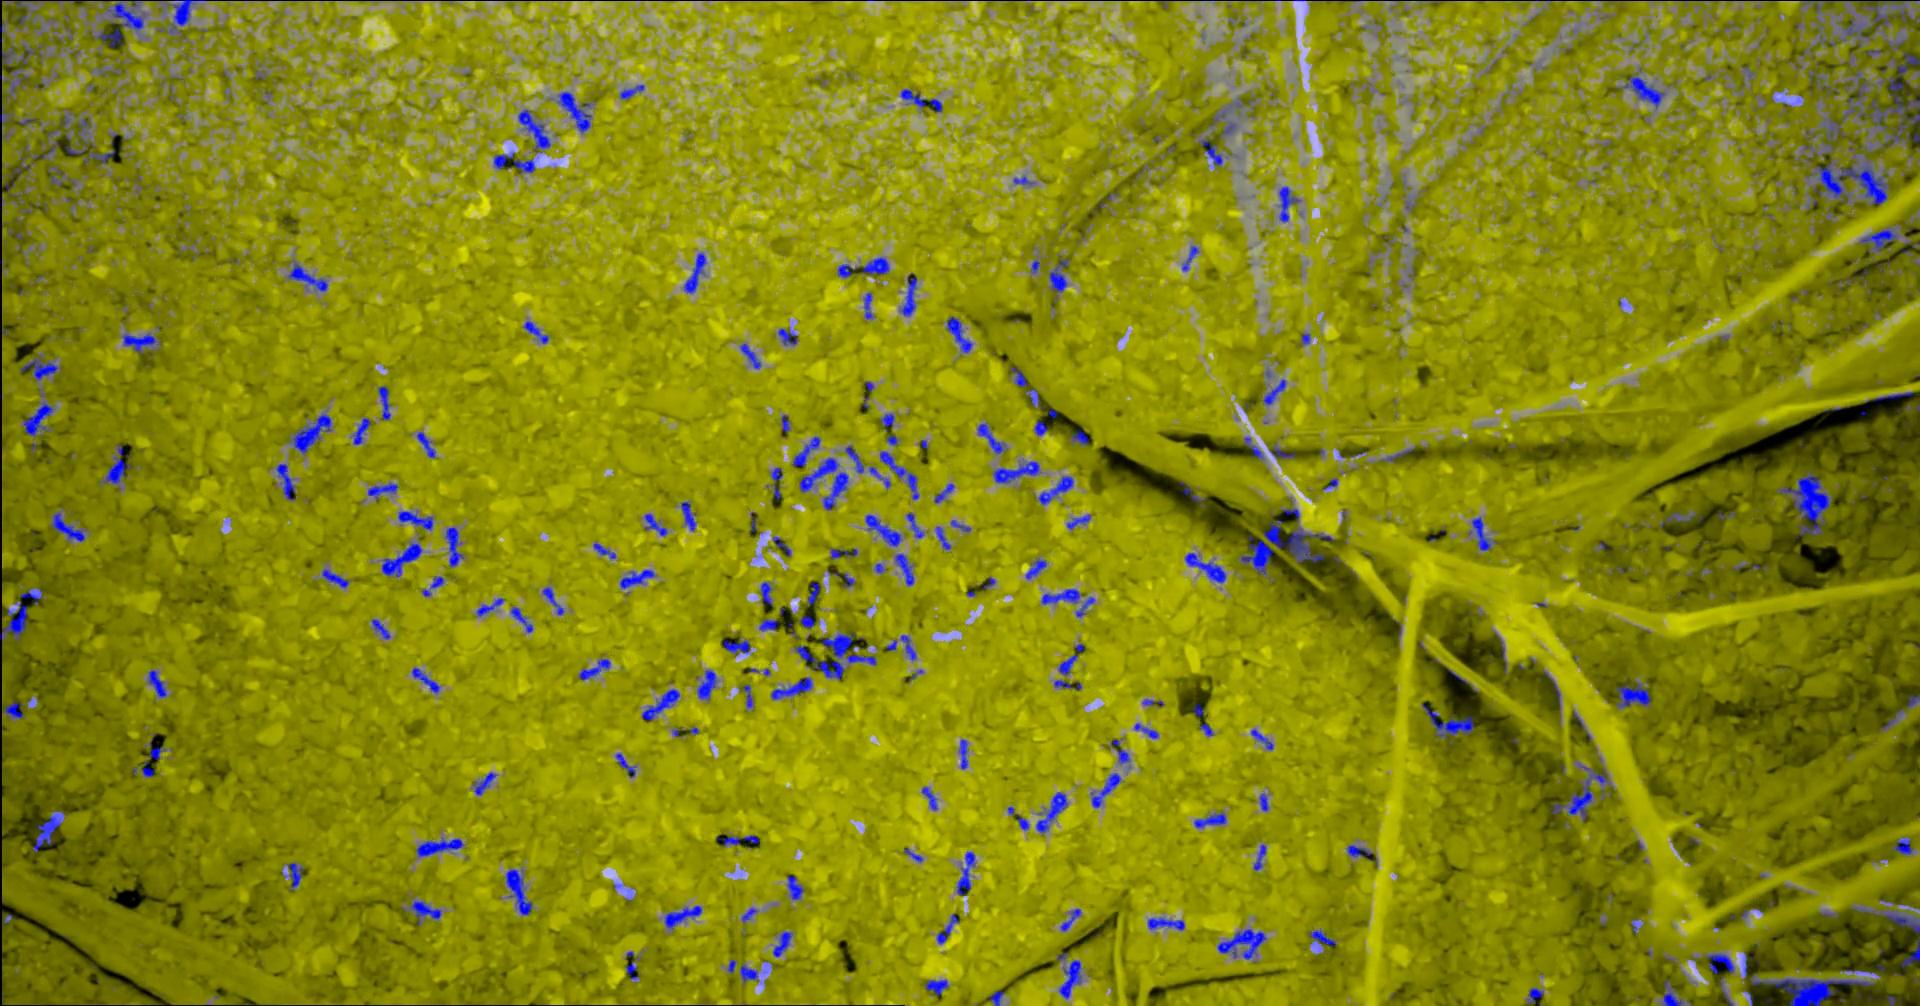ant: (1851, 907, 1919, 967), (1549, 763, 1609, 821), (799, 457, 848, 509), (97, 0, 143, 47), (1421, 702, 1473, 743), (879, 451, 918, 499), (288, 413, 331, 453), (1851, 0, 1909, 30), (1217, 929, 1266, 959), (517, 109, 550, 152), (1622, 75, 1663, 108), (557, 91, 590, 132), (381, 542, 422, 575), (1035, 791, 1067, 833), (32, 810, 63, 852), (287, 260, 328, 291), (1183, 553, 1225, 582), (505, 869, 532, 915), (9, 46, 41, 84), (863, 514, 902, 546), (641, 688, 679, 720), (169, 0, 204, 32), (23, 401, 55, 436), (50, 511, 85, 541), (1010, 366, 1037, 404), (0, 600, 25, 641), (1090, 772, 1120, 807), (899, 88, 942, 112), (992, 461, 1040, 483), (1037, 475, 1073, 504), (104, 445, 130, 484), (19, 354, 57, 380), (1859, 227, 1897, 251), (415, 837, 463, 856), (1468, 516, 1495, 550), (1615, 681, 1650, 708), (683, 251, 705, 293), (770, 677, 811, 699), (946, 316, 971, 352), (1058, 959, 1081, 998), (664, 904, 701, 929), (977, 423, 1004, 453), (792, 436, 820, 466), (1058, 643, 1084, 674), (122, 333, 161, 353), (956, 851, 974, 895), (1277, 185, 1299, 221), (444, 527, 463, 567), (411, 667, 439, 694), (1662, 979, 1691, 1005), (276, 464, 295, 500), (1048, 258, 1068, 292), (410, 901, 441, 923), (578, 658, 610, 680), (1178, 481, 1205, 507), (618, 569, 654, 588), (1197, 137, 1222, 165), (1040, 588, 1081, 605), (1823, 117, 1844, 149), (10, 0, 38, 23), (900, 274, 916, 316), (936, 913, 957, 942), (1705, 953, 1735, 974), (1658, 511, 1697, 527), (696, 669, 716, 700), (1261, 379, 1285, 404), (522, 320, 549, 343), (397, 511, 432, 528), (895, 553, 913, 586), (367, 481, 397, 500), (510, 606, 532, 633), (321, 568, 349, 588), (542, 586, 563, 614), (857, 257, 889, 274), (475, 597, 504, 616), (1192, 810, 1225, 827), (283, 862, 303, 889), (350, 417, 370, 445), (844, 445, 863, 473), (147, 669, 166, 697), (8, 156, 30, 179), (472, 772, 495, 795), (1839, 964, 1884, 976), (1845, 15, 1869, 37), (643, 513, 667, 535), (1881, 708, 1905, 729), (739, 343, 759, 368), (1110, 738, 1130, 763), (615, 752, 635, 777), (772, 931, 792, 956), (417, 431, 436, 457), (723, 636, 750, 654), (1250, 728, 1272, 749), (1864, 391, 1912, 401), (905, 512, 923, 539), (1308, 929, 1335, 946), (1147, 917, 1183, 930), (869, 466, 890, 488), (1025, 558, 1046, 579), (1243, 436, 1263, 459), (422, 575, 444, 596), (1382, 447, 1415, 461), (827, 570, 855, 587), (1345, 843, 1371, 860), (377, 385, 390, 419), (1060, 908, 1079, 931), (716, 835, 758, 845), (83, 150, 116, 163), (1181, 245, 1197, 271), (770, 467, 782, 500), (1076, 596, 1095, 617), (681, 500, 695, 530), (625, 950, 639, 979), (900, 634, 916, 661), (3, 701, 27, 718), (921, 786, 937, 810), (786, 875, 803, 899), (777, 326, 797, 345), (371, 619, 390, 639), (1133, 723, 1158, 738), (20, 587, 42, 605), (924, 979, 949, 995), (935, 483, 954, 502), (772, 536, 790, 556), (147, 739, 165, 760), (1891, 837, 1912, 854), (618, 84, 644, 98), (935, 526, 950, 549), (1253, 843, 1266, 870), (1065, 514, 1090, 528), (593, 542, 615, 558), (1270, 446, 1295, 459), (759, 580, 772, 606), (0, 44, 15, 65), (493, 152, 513, 168), (830, 547, 857, 559), (0, 102, 14, 123), (513, 158, 535, 171), (957, 739, 968, 768), (739, 964, 757, 981), (1070, 429, 1090, 445), (808, 580, 819, 605), (879, 413, 894, 431), (1528, 987, 1543, 1005), (903, 847, 922, 861), (1053, 680, 1081, 688), (742, 683, 752, 708), (863, 292, 872, 319), (950, 520, 970, 531), (989, 989, 1004, 1005), (837, 264, 855, 277), (742, 907, 757, 921), (141, 760, 154, 776), (1281, 508, 1299, 520), (759, 619, 777, 630), (1034, 420, 1048, 434), (800, 614, 814, 627), (50, 169, 61, 185), (1258, 793, 1269, 810), (1199, 721, 1211, 735), (1016, 815, 1029, 829), (1013, 175, 1032, 184), (1906, 695, 1919, 708), (1192, 702, 1203, 716), (781, 414, 789, 432)
